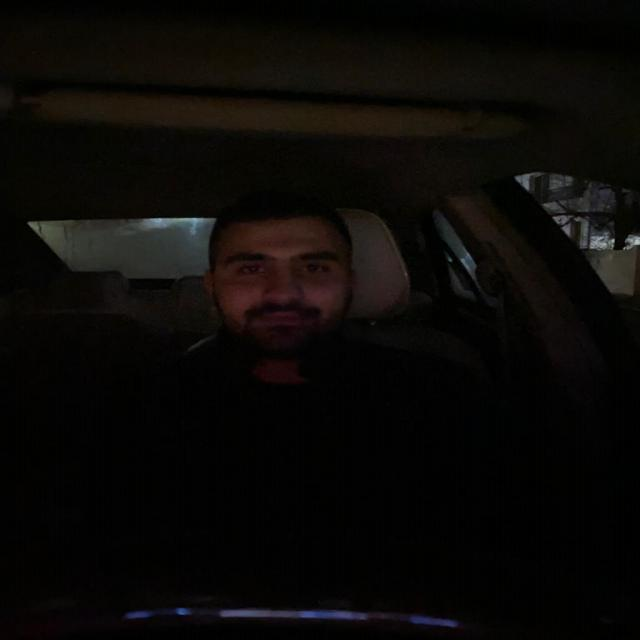person: (188, 180, 379, 367)
